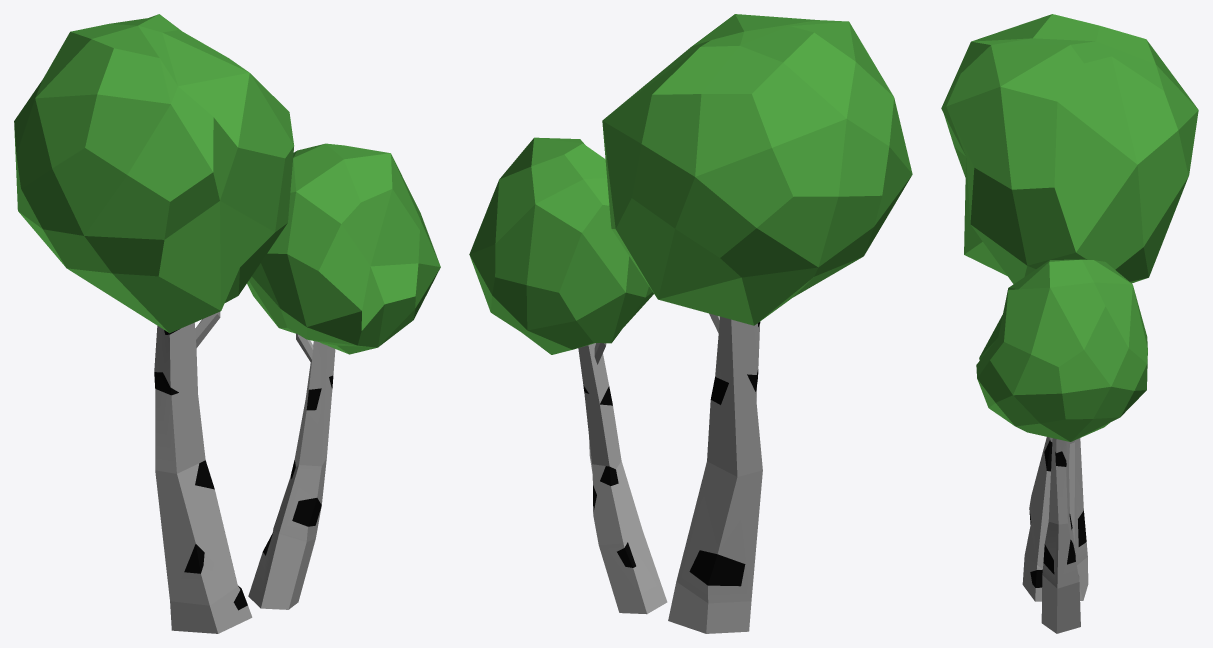
The model's file is tree_birch2.fbx.
The picture shows the model from 3 angles, left to right: view 1: azimuth 30°, elevation 25°; view 2: azimuth 150°, elevation 25°; view 3: azimuth 270°, elevation 25°; orthographic projection. The views are drawn at different scales.
Visible parts, largest first — view 1: polySurface884, polySurface883, polySurface885, polySurface886; view 2: polySurface884, polySurface883, polySurface885, polySurface886; view 3: polySurface884, polySurface883, polySurface886, polySurface885.
Part boxes in pixels (x1,y1,x2,y2): polySurface884: (14, 14, 294, 333); polySurface883: (247, 143, 440, 354); polySurface885: (154, 312, 252, 633); polySurface886: (248, 333, 335, 609); polySurface884: (602, 14, 912, 325); polySurface883: (469, 137, 653, 354); polySurface885: (668, 313, 762, 633); polySurface886: (578, 343, 667, 614); polySurface884: (941, 14, 1198, 284); polySurface883: (976, 259, 1147, 441); polySurface886: (1041, 438, 1080, 633); polySurface885: (1022, 437, 1088, 601).
Size of the model in its own units: 38.38 by 56.45 by 24.47.
